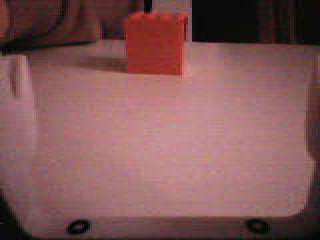legocube: (118, 11, 194, 80)
